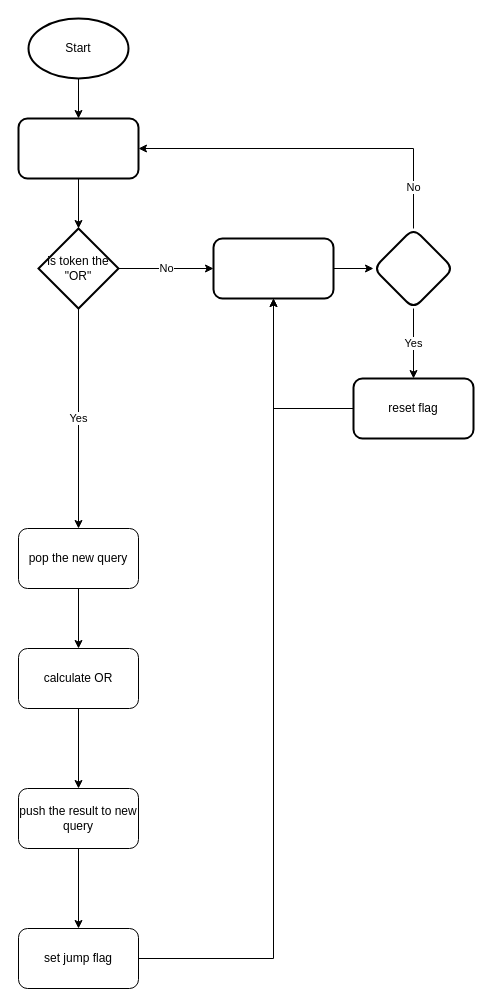
This 491x1006 diagram has some shape labels left out. Here are the shapes that lost their labels. From the top down, the box of each, then its label:
(17, 117, 139, 179): Push to new query
(212, 237, 334, 299): next token
(372, 227, 454, 309): jump flag
